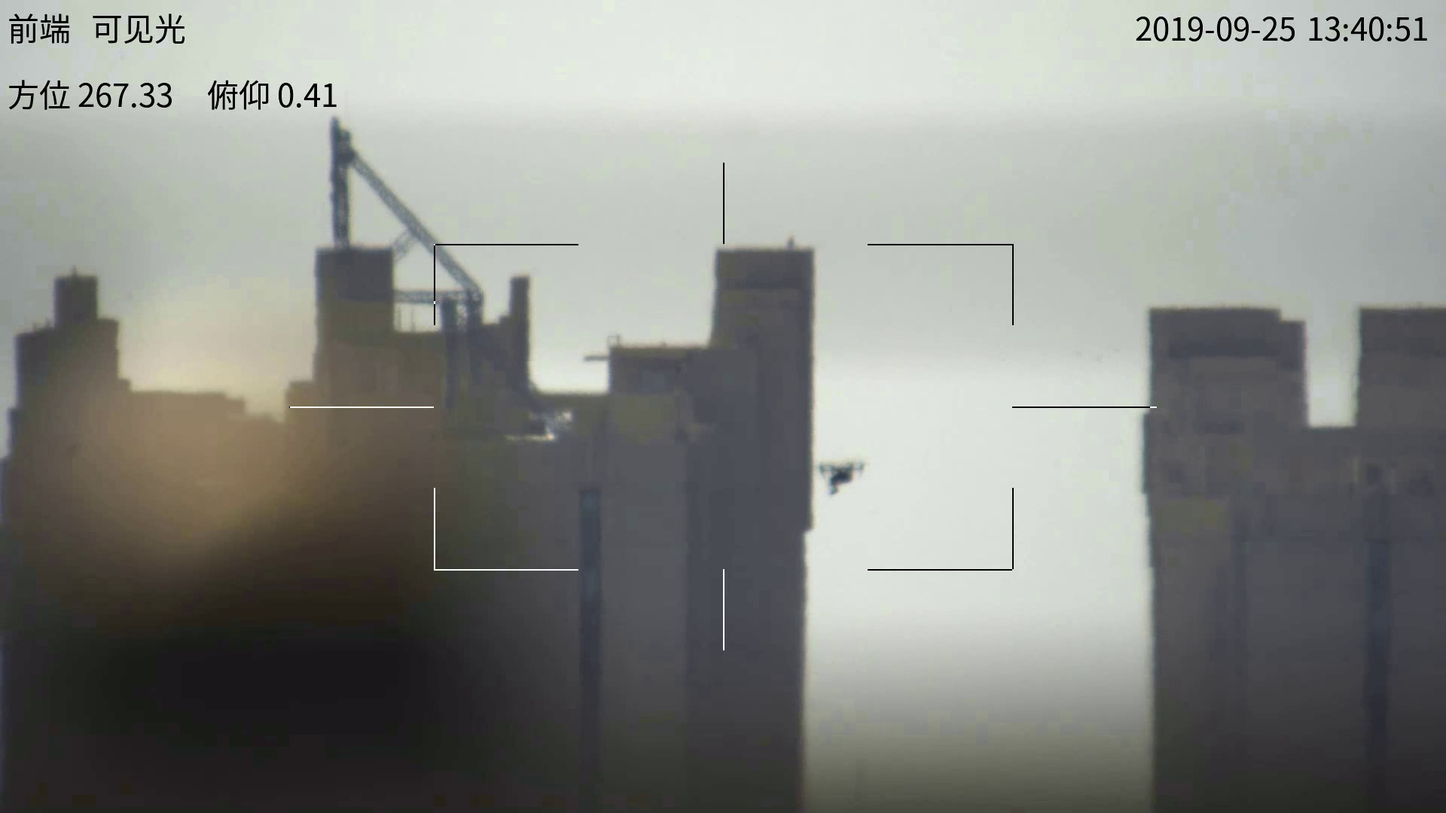drone: (816, 455, 874, 501)
